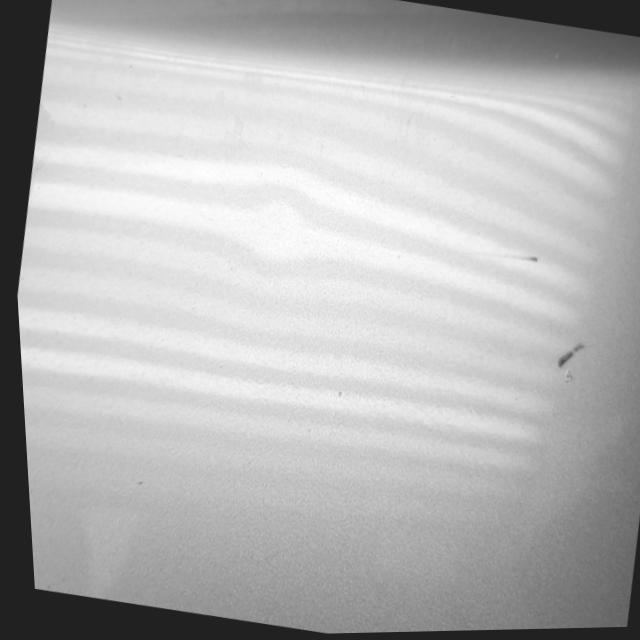PDR-Dent: (236, 148, 332, 290)
Scratch: (556, 337, 587, 373), (478, 249, 542, 266)
